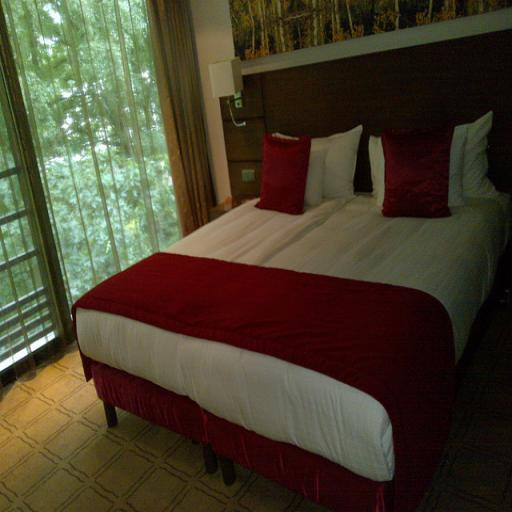bed: (42, 94, 510, 470)
